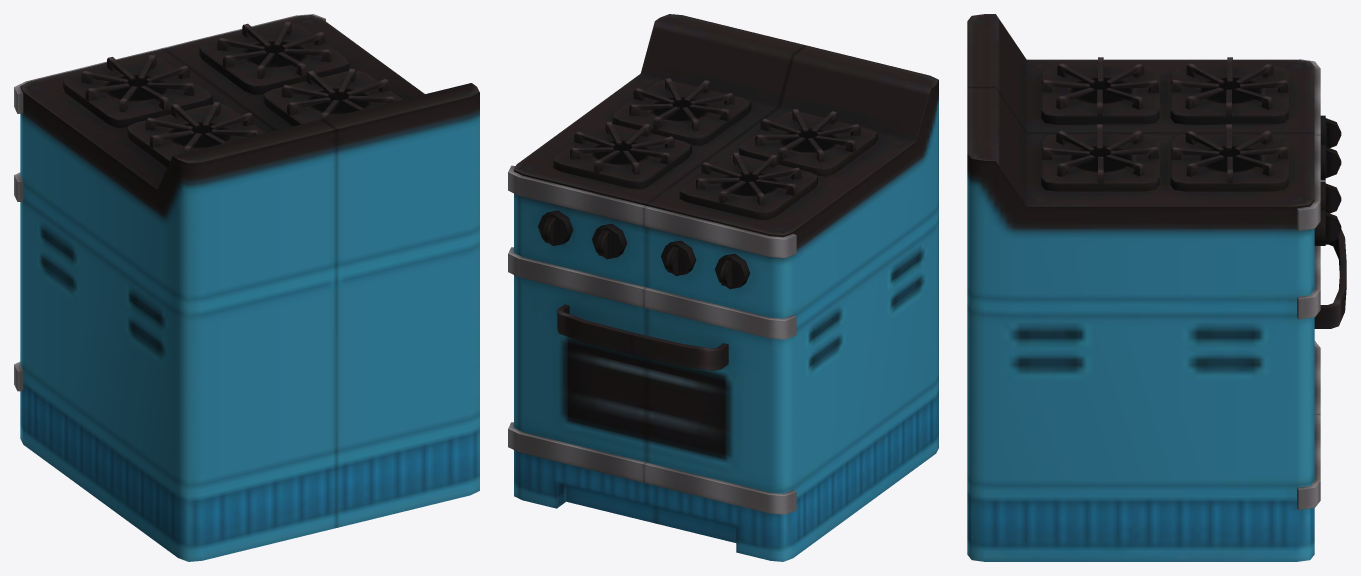
Rendered from Stove_02.gltf.
The picture shows the model from 3 angles, left to right: view 1: azimuth 30°, elevation 25°; view 2: azimuth 150°, elevation 25°; view 3: azimuth 270°, elevation 25°; orthographic projection. The views are drawn at different scales.
Parts seen in each view (by area): view 1: Stove_02; view 2: Stove_02; view 3: Stove_02.
Boxes of the visible parts, x1,y1,x2,y2 form: Stove_02: [14, 14, 479, 561]; Stove_02: [508, 14, 938, 561]; Stove_02: [967, 14, 1346, 561].
Size of the model in its own units: 31.21 by 38.5 by 33.02.
